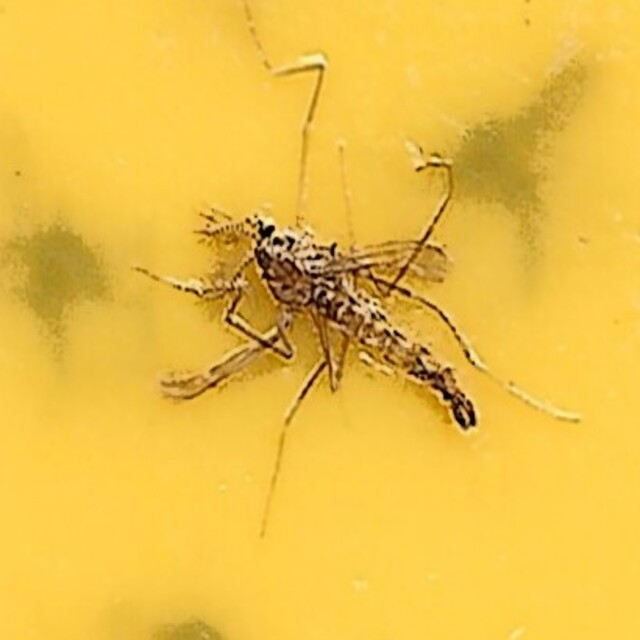Nematocera: (156, 191, 484, 449)
